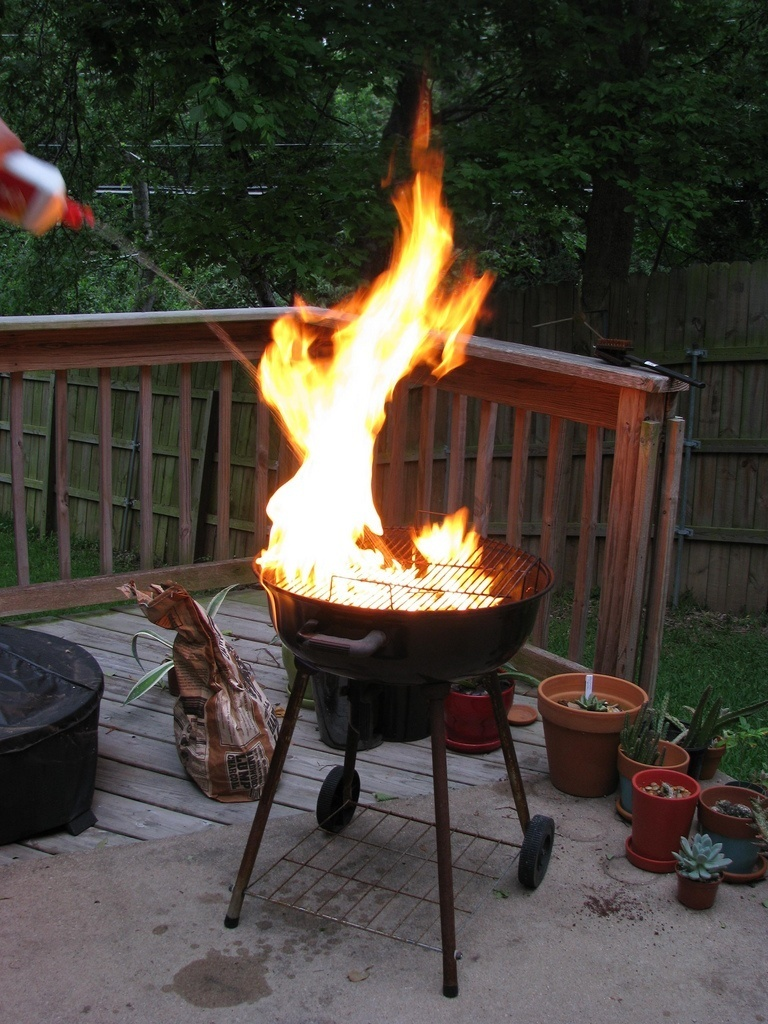fire: (248, 98, 508, 626)
